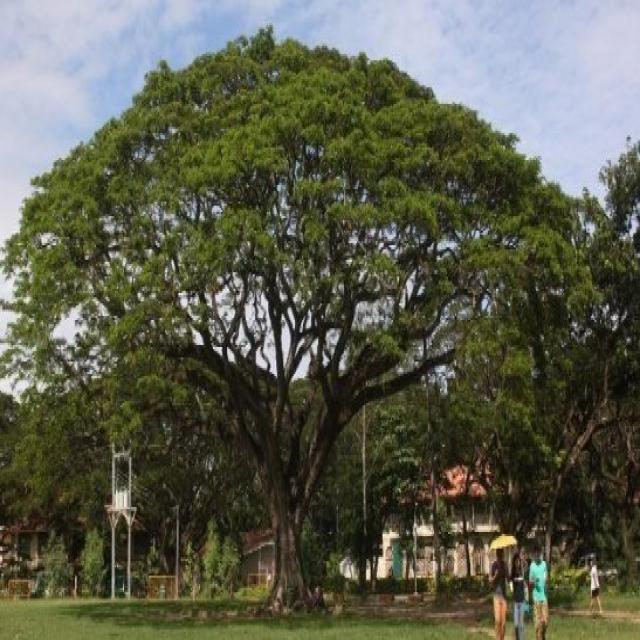Acacia: (4, 22, 591, 574)
